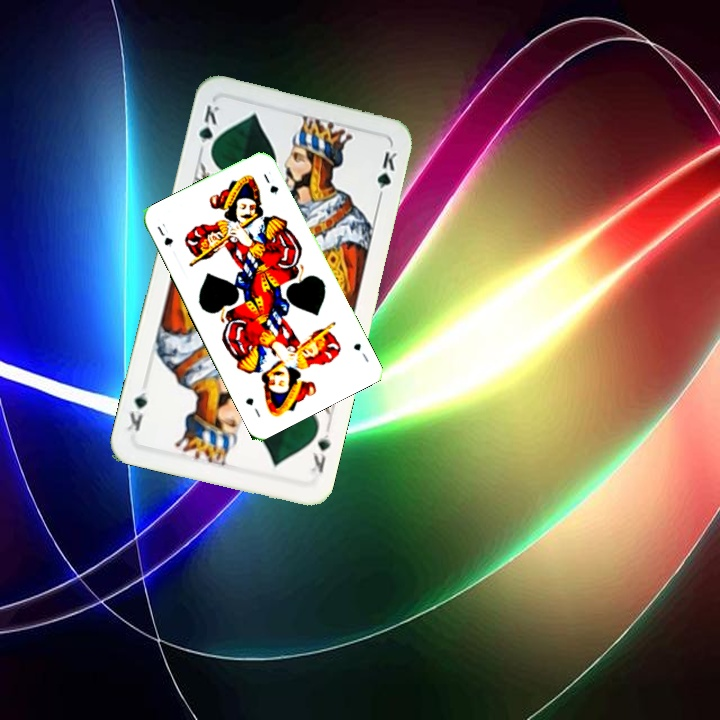GK: (195, 100, 222, 159), (306, 424, 333, 475)
GU: (153, 219, 176, 250), (349, 339, 371, 365)
